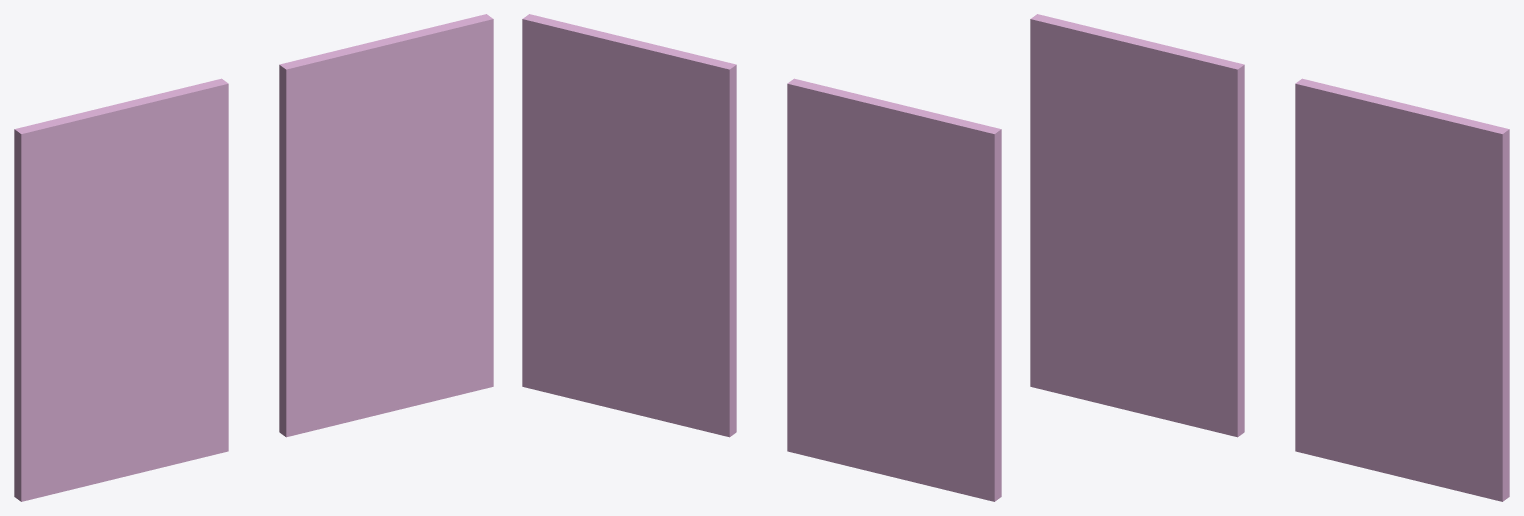
Rendered from OfficeWindow.fbx.
3 renders of one model, left to right at view 1: azimuth 30°, elevation 25°; view 2: azimuth 150°, elevation 25°; view 3: azimuth 330°, elevation 25°, orthographic.
Parts seen in each view (by area): view 1: GlassWindow; view 2: GlassWindow; view 3: GlassWindow.
Part boxes in pixels (bbox=[...]): GlassWindow: bbox=[14, 14, 493, 501]; GlassWindow: bbox=[522, 14, 1001, 501]; GlassWindow: bbox=[1030, 14, 1509, 501].
Bounding box in the file's own units: 79.02 × 58.81 × 2.
